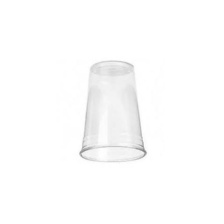glass: (72, 56, 152, 168)
